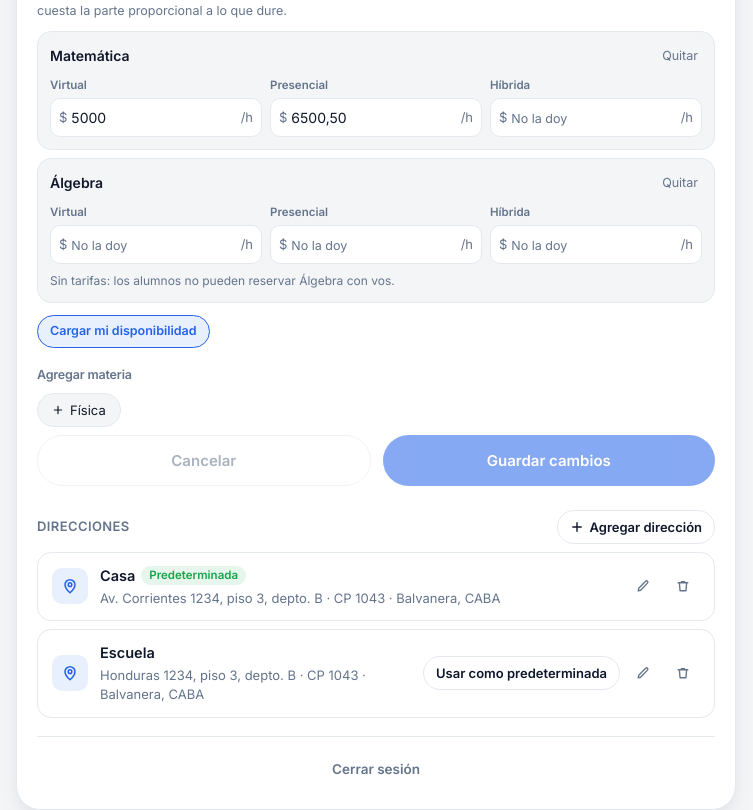
Test: ProfilePage — direcciones del docente › si la usa algún horario, dice por qué no la borra
(page scrolled)
expect the text "Escuela" is shown: met, box [100,644,155,661]
Click the button named "Borrar Casa". click: point(683, 586)
box: [666,569,700,603]
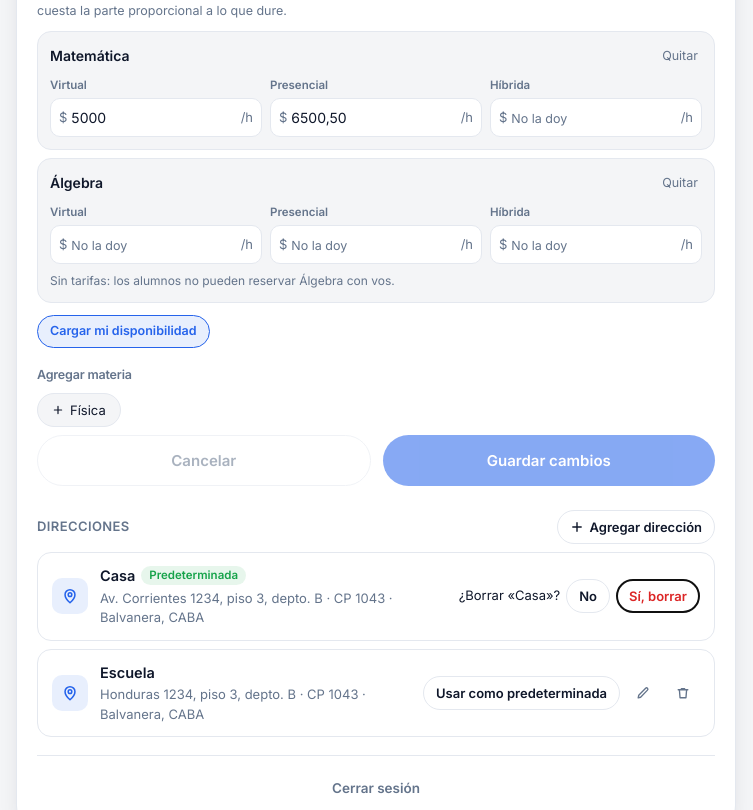
Click the button "Sí, borrar". click: point(658, 596)
box: [616,579,700,613]
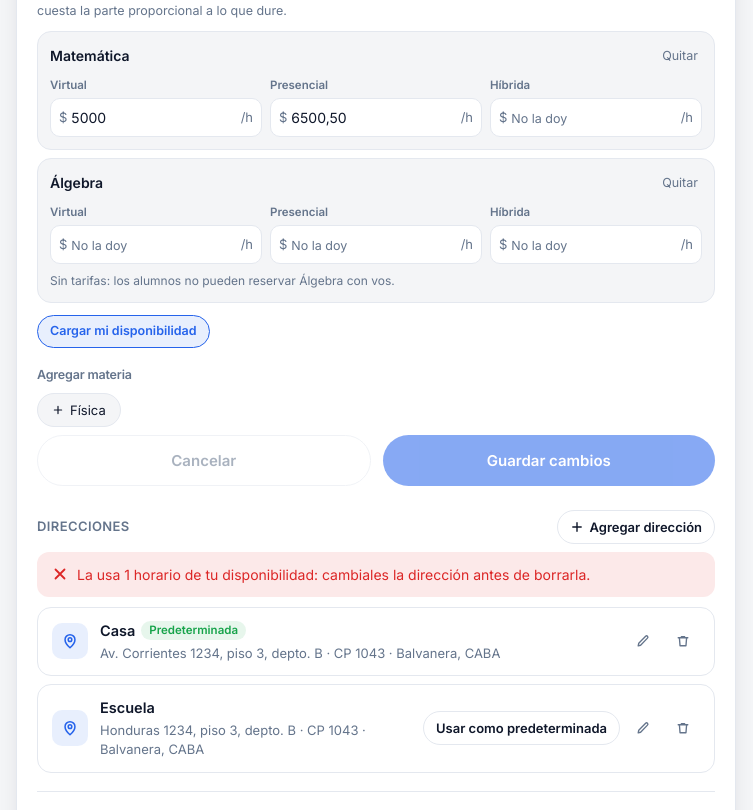
expect the text "La usa 1 horario de tu disponibilidad" is shown: met, box [77,566,590,583]
